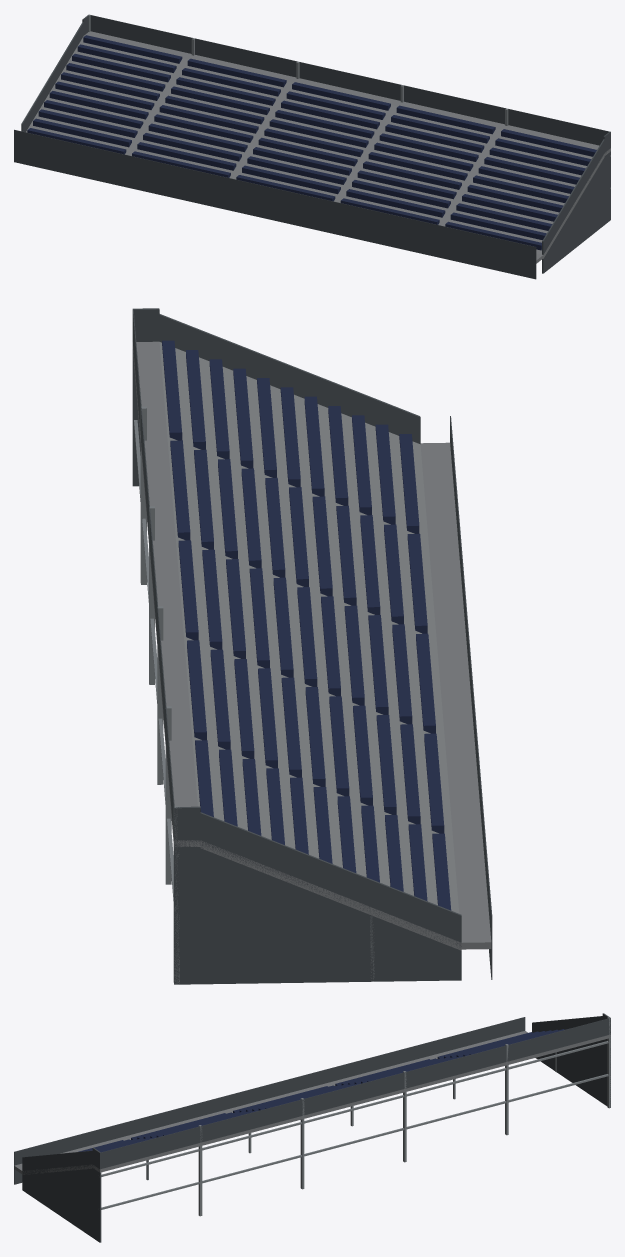
The model's file is sil_stand_wellington.glb.
3 views of the same model, one above another, from view 1: azimuth 30°, elevation 25°; view 2: azimuth 150°, elevation 25°; view 3: azimuth 270°, elevation 25° (orthographic). The views are drawn at different scales.
Visible parts, largest first — view 1: silverstone-wellington; view 2: silverstone-wellington; view 3: silverstone-wellington.
Boxes of the visible parts, box(x1,y1,x2,y2) form: silverstone-wellington: box(14, 14, 610, 279); silverstone-wellington: box(132, 308, 492, 984); silverstone-wellington: box(14, 1013, 610, 1242).
Bounding box in the file's own units: 30.22 × 6.56 × 39.49.
